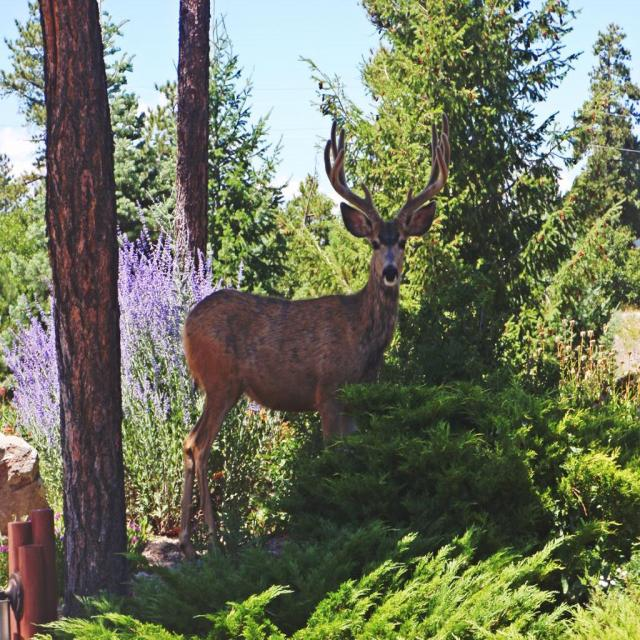Deer: (185, 115, 452, 560)
